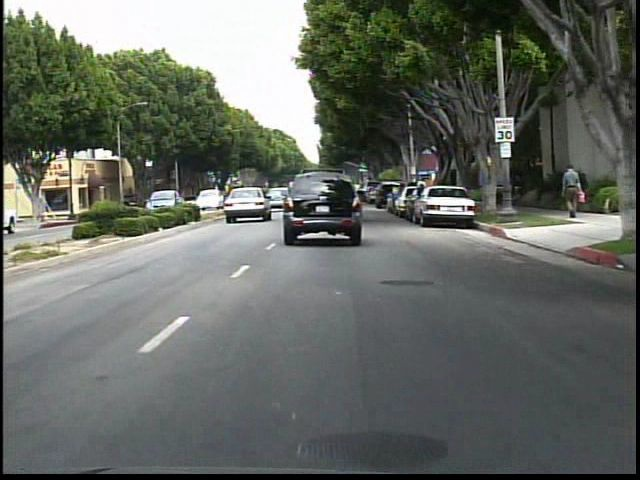person: (558, 159, 586, 220)
